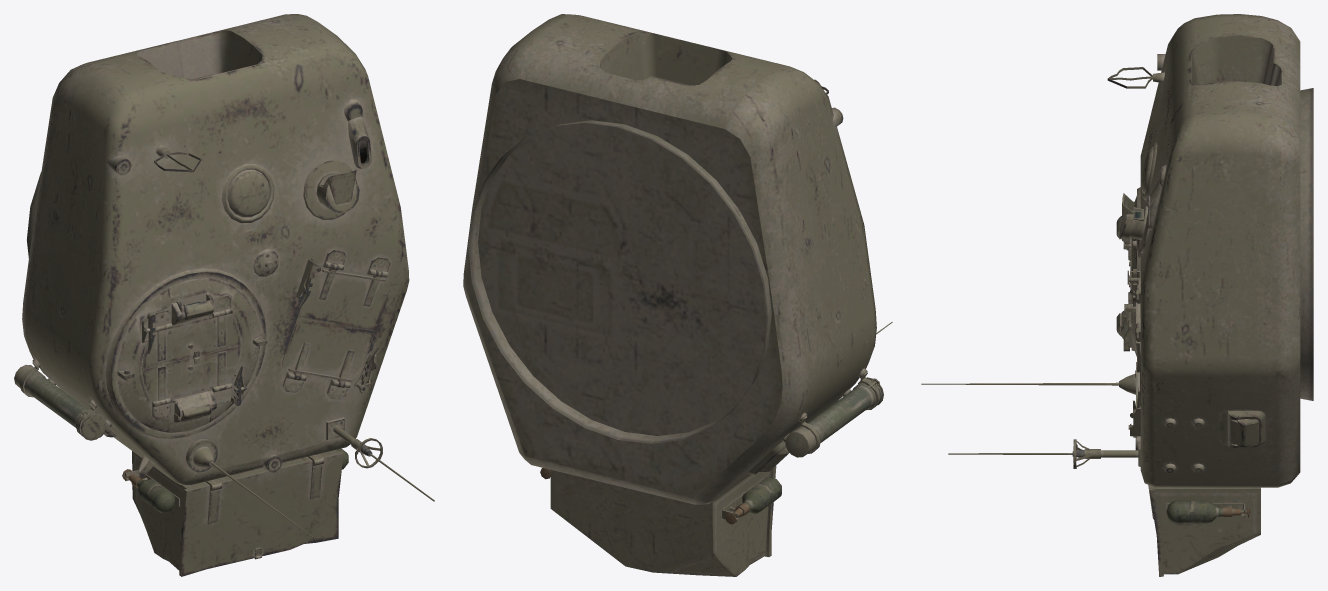
Rendered from Turret_01.glb.
3 views of the same model, side by side, from view 1: azimuth 30°, elevation 25°; view 2: azimuth 150°, elevation 25°; view 3: azimuth 270°, elevation 25° (orthographic). The views are drawn at different scales.
Visible parts, largest first — view 1: set_0_group_0; view 2: set_0_group_0; view 3: set_0_group_0.
Part boxes in pixels (x1,y1,x2,y2): set_0_group_0: (14, 14, 434, 576); set_0_group_0: (463, 14, 892, 576); set_0_group_0: (921, 14, 1313, 576).
Size of the model in its own units: 1.79 by 2.56 by 1.92.
Materials: 1 (1 with a texture image).
